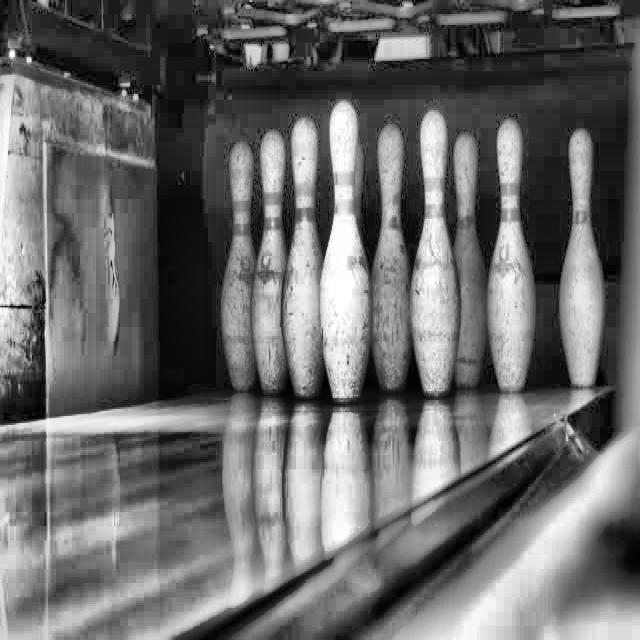bowling-pins: (321, 100, 372, 403), (411, 108, 461, 397), (488, 119, 537, 392), (282, 117, 325, 399), (561, 129, 604, 387), (372, 124, 413, 392), (252, 130, 288, 394), (221, 142, 256, 390), (455, 133, 487, 388), (355, 142, 364, 227)
